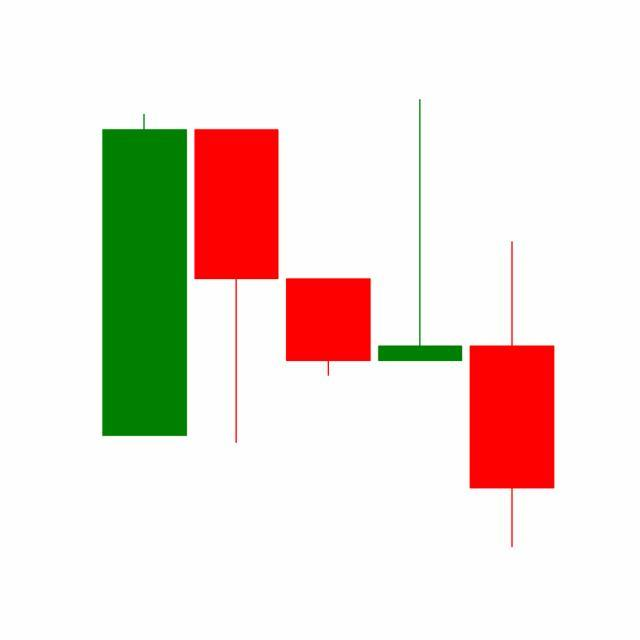Gravestone Doji: (374, 97, 468, 365)
